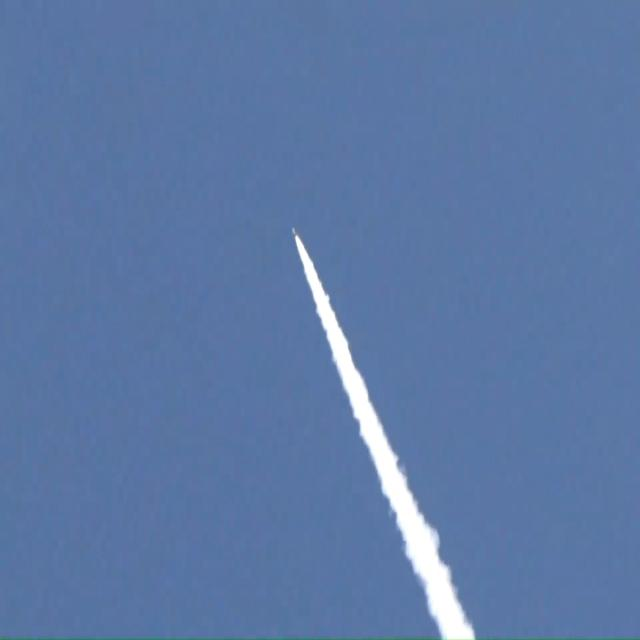Rocket: (292, 226, 297, 237)
